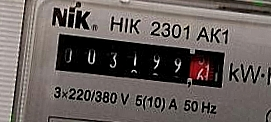0: (85, 46, 98, 66), (62, 44, 73, 63)
1: (129, 48, 140, 67)
3: (106, 49, 119, 70)
6: (194, 65, 205, 80)
9: (149, 50, 162, 71), (171, 55, 183, 74)
screen: (46, 21, 233, 98)
